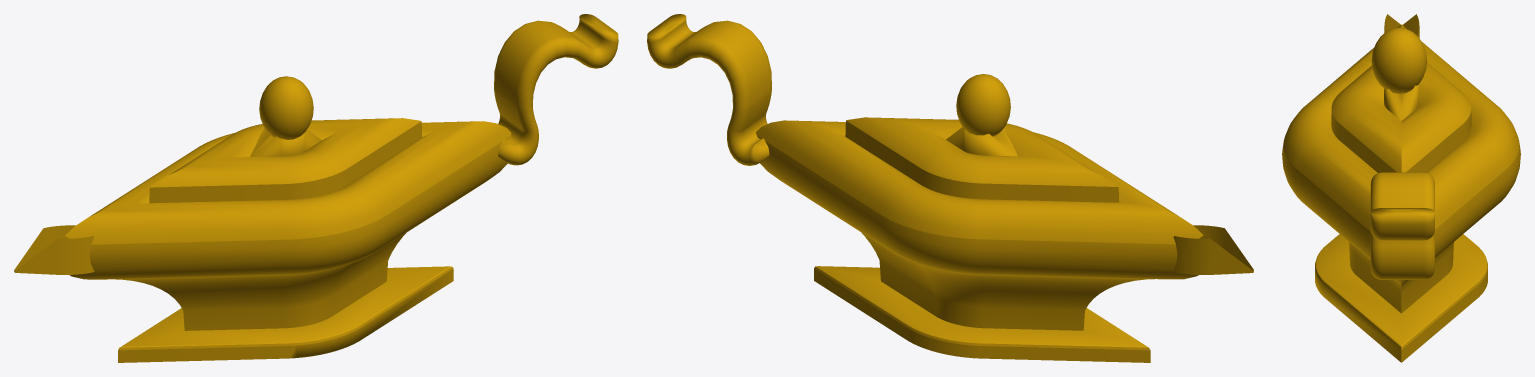
Rendered from Lamp.dae.
The picture shows the model from 3 angles, left to right: view 1: azimuth 30°, elevation 25°; view 2: azimuth 150°, elevation 25°; view 3: azimuth 270°, elevation 25°; orthographic projection.
Parts seen in each view (by area): view 1: Grupo_2 (×2), Componente_3, Componente_1, Componente_2; view 2: Grupo_2 (×4), Componente_3, Componente_1, Componente_2; view 3: Grupo_2 (×4), Componente_3, Componente_2, Componente_1.
Part boxes in pixels (x1,y1,x2,y2): Grupo_2 (×2): (65, 118, 511, 362); Componente_3: (494, 14, 618, 165); Componente_1: (14, 225, 94, 274); Componente_2: (259, 76, 313, 139); Grupo_2 (×4): (756, 117, 1203, 362); Componente_3: (647, 14, 771, 165); Componente_1: (1172, 225, 1253, 274); Componente_2: (956, 74, 1010, 136); Grupo_2 (×4): (1282, 24, 1520, 362); Componente_3: (1370, 172, 1434, 279); Componente_2: (1371, 27, 1427, 93); Componente_1: (1384, 14, 1419, 37).
Bounding box in the file's own units: 82.06 × 28.12 × 32.36.
